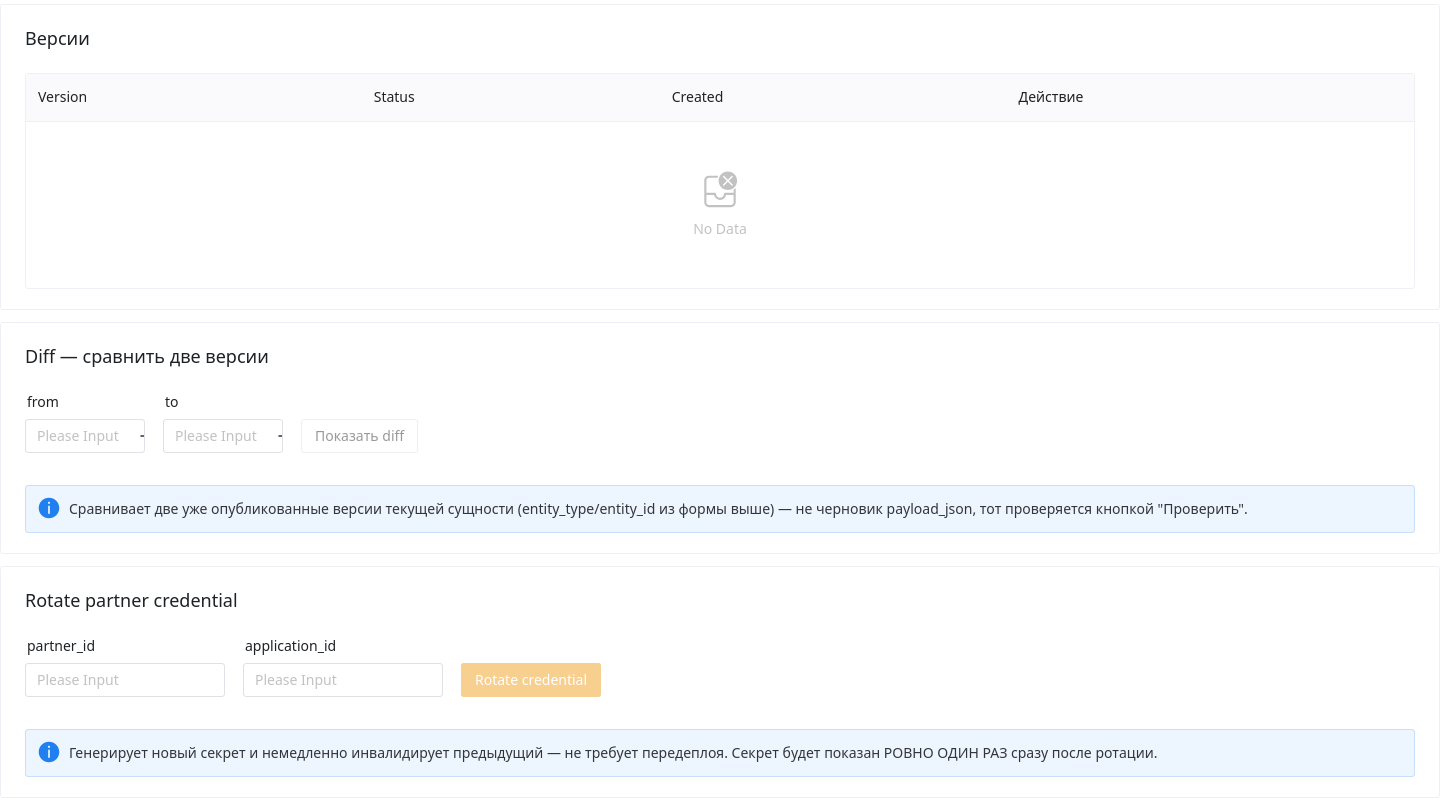
Test case: ConfigView — Rotate partner credential › ротация требует подтверждения в диалоге перед вызовом POST, затем показывает show-once модалку
(page scrolled)
In the field below "partner_id": (125, 680) [37,663,213,697], type "click_uz"
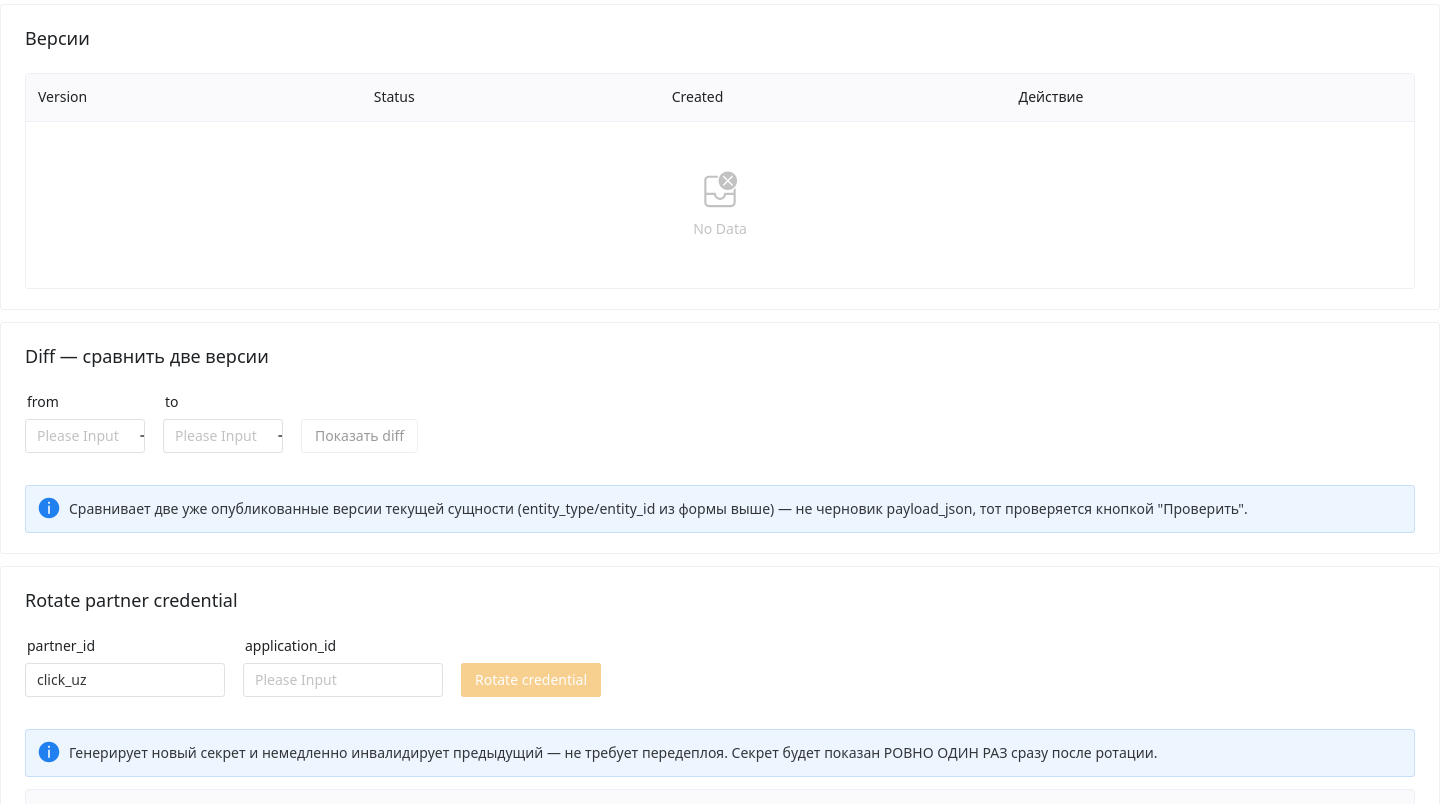
In the field below "partner_id": (343, 680) [255,663,431,697], type "click_uz_main"
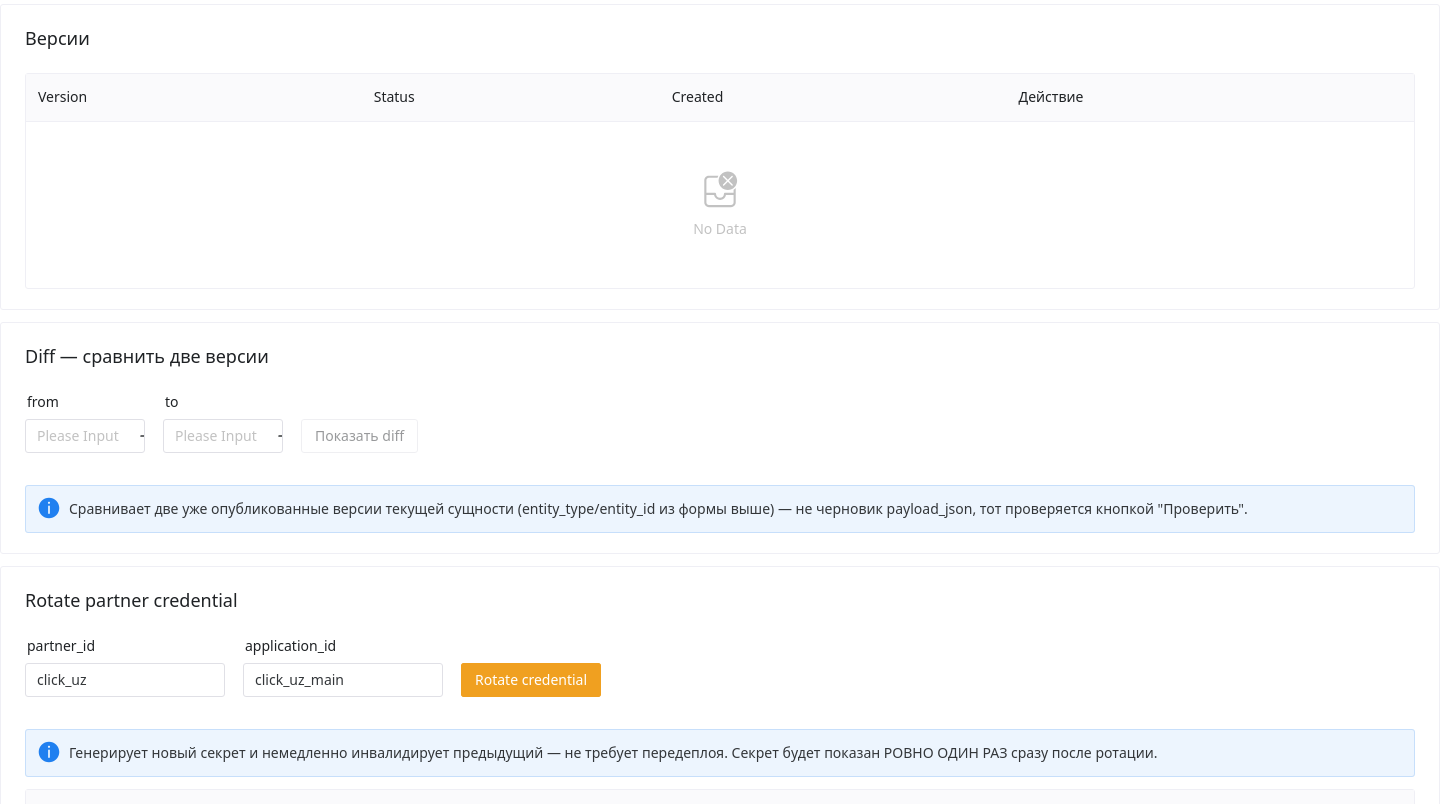
Expected: the button "Rotate credential" is enabled
Click the button "Rotate credential": (531, 680) [461,663,601,697]
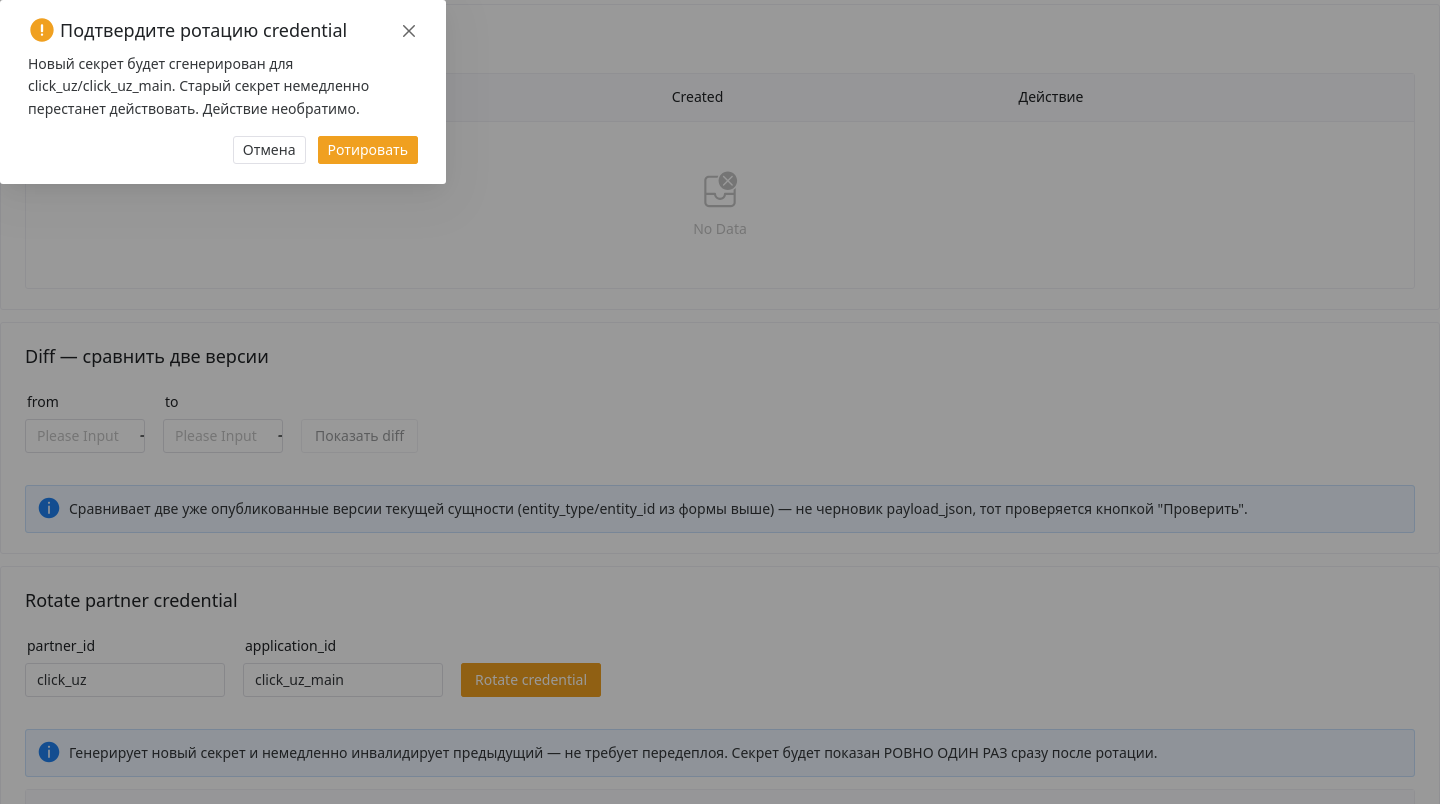
Click the button "Ротировать": (368, 150) [318,136,418,164]
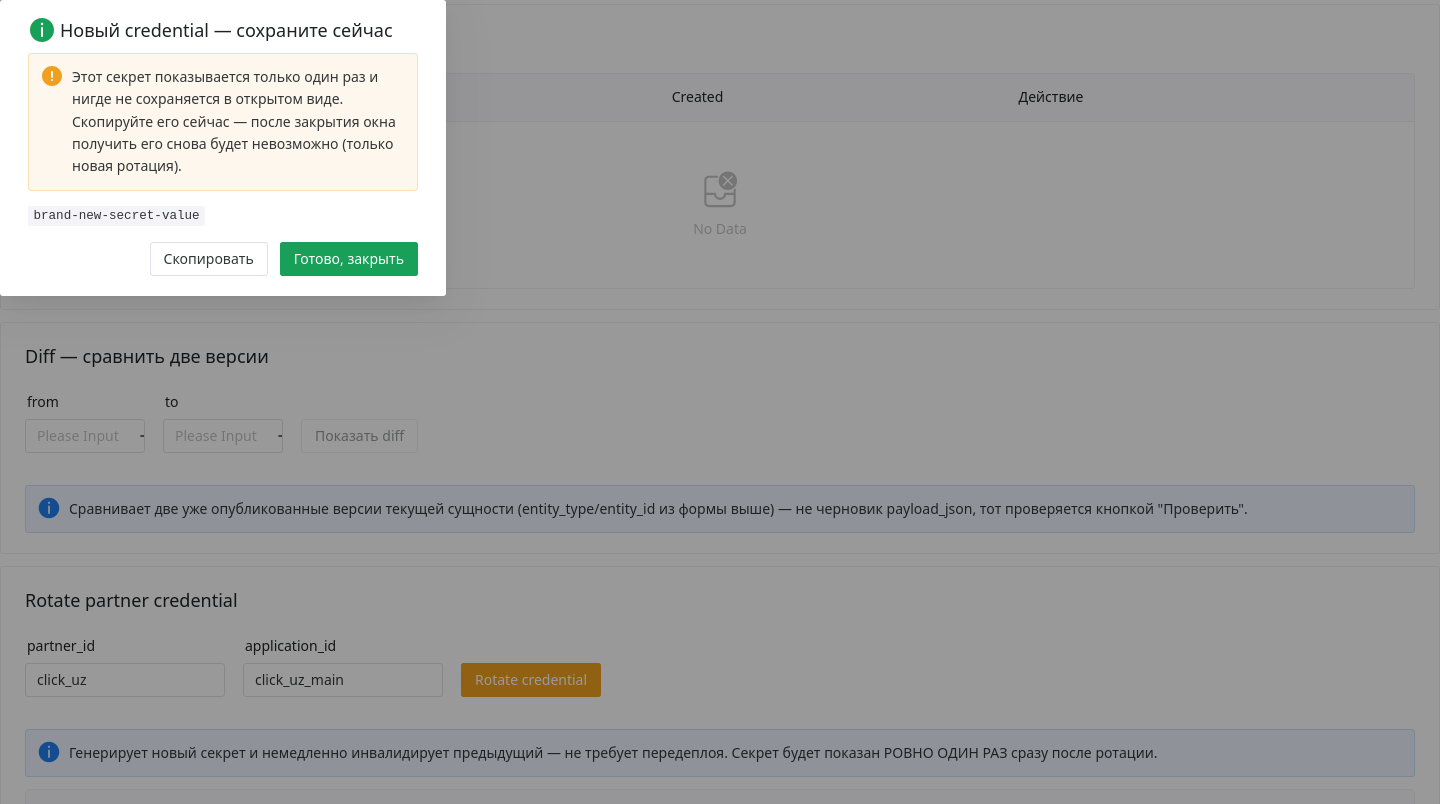
Expected: the text "brand-new-secret-value" is shown, [28,206,205,226]
